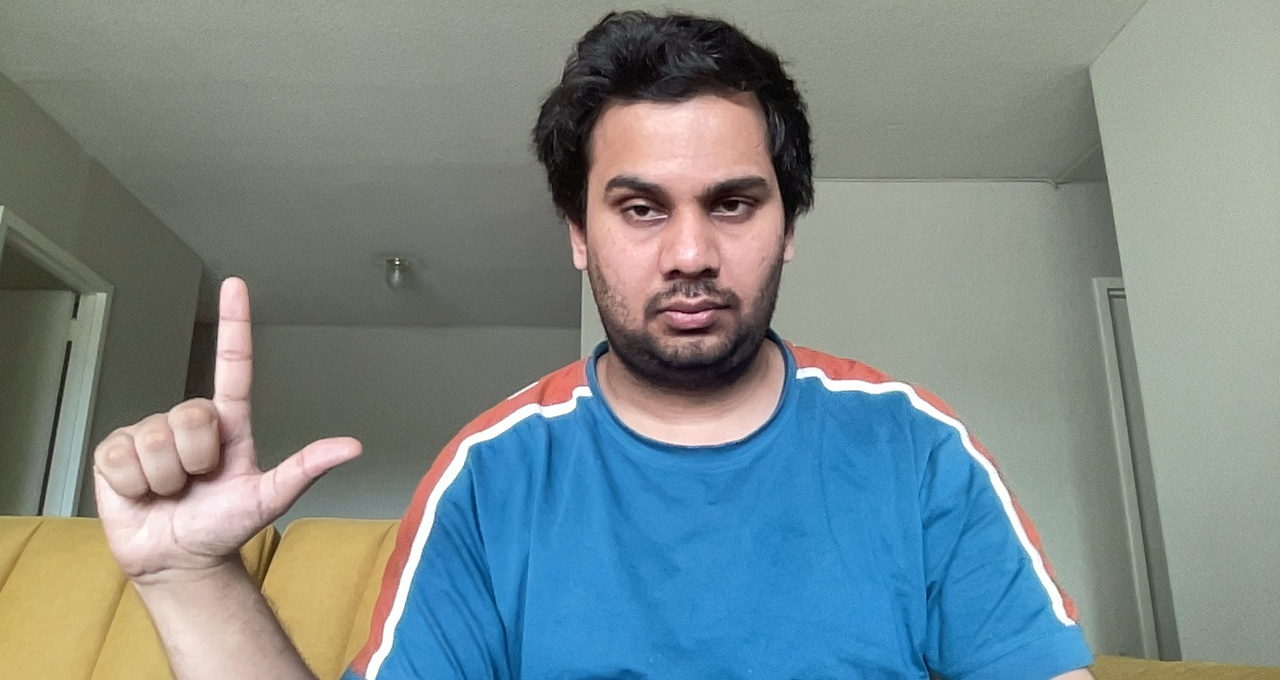L: (80, 267, 371, 583)
